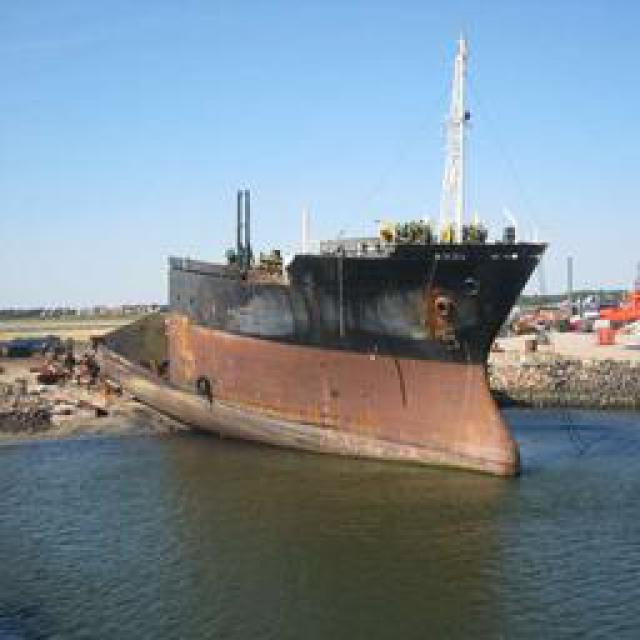Ship: (114, 197, 544, 477)
